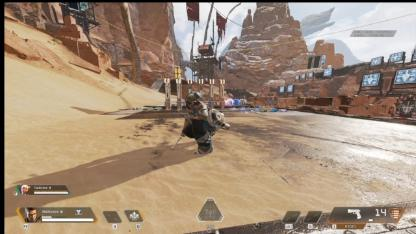Target: (184, 91, 222, 153)
